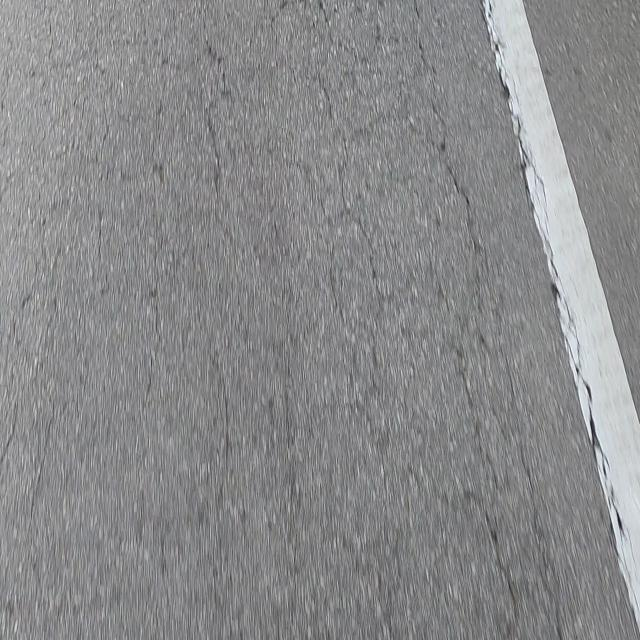Retak-Memanjang: (480, 4, 624, 537)
